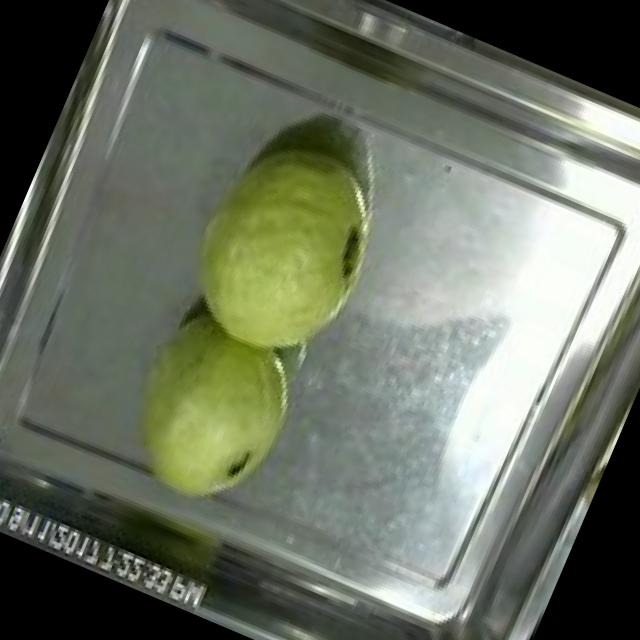Fruit: (154, 110, 410, 390), (90, 290, 328, 538)
